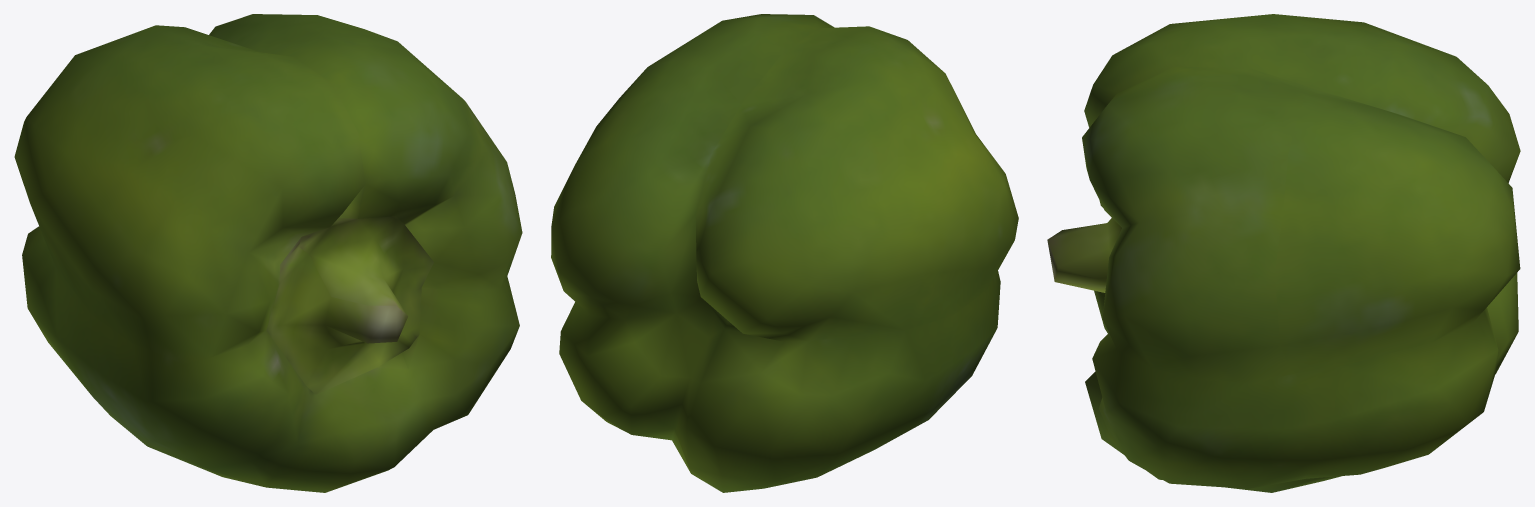
The picture shows the model from 3 angles, left to right: view 1: azimuth 30°, elevation 25°; view 2: azimuth 150°, elevation 25°; view 3: azimuth 270°, elevation 25°; orthographic projection. The views are drawn at different scales.
Parts seen in each view (by area): view 1: pepper mini_5; view 2: pepper mini_5; view 3: pepper mini_5.
Boxes of the visible parts, left/top/right/bottom form: pepper mini_5: left=14, top=14, right=522, bottom=492; pepper mini_5: left=551, top=14, right=1018, bottom=492; pepper mini_5: left=1047, top=14, right=1520, bottom=492.
Bounding box in the file's own units: 0.0442 × 0.0451 × 0.0456.
1 material, 1 textured.
